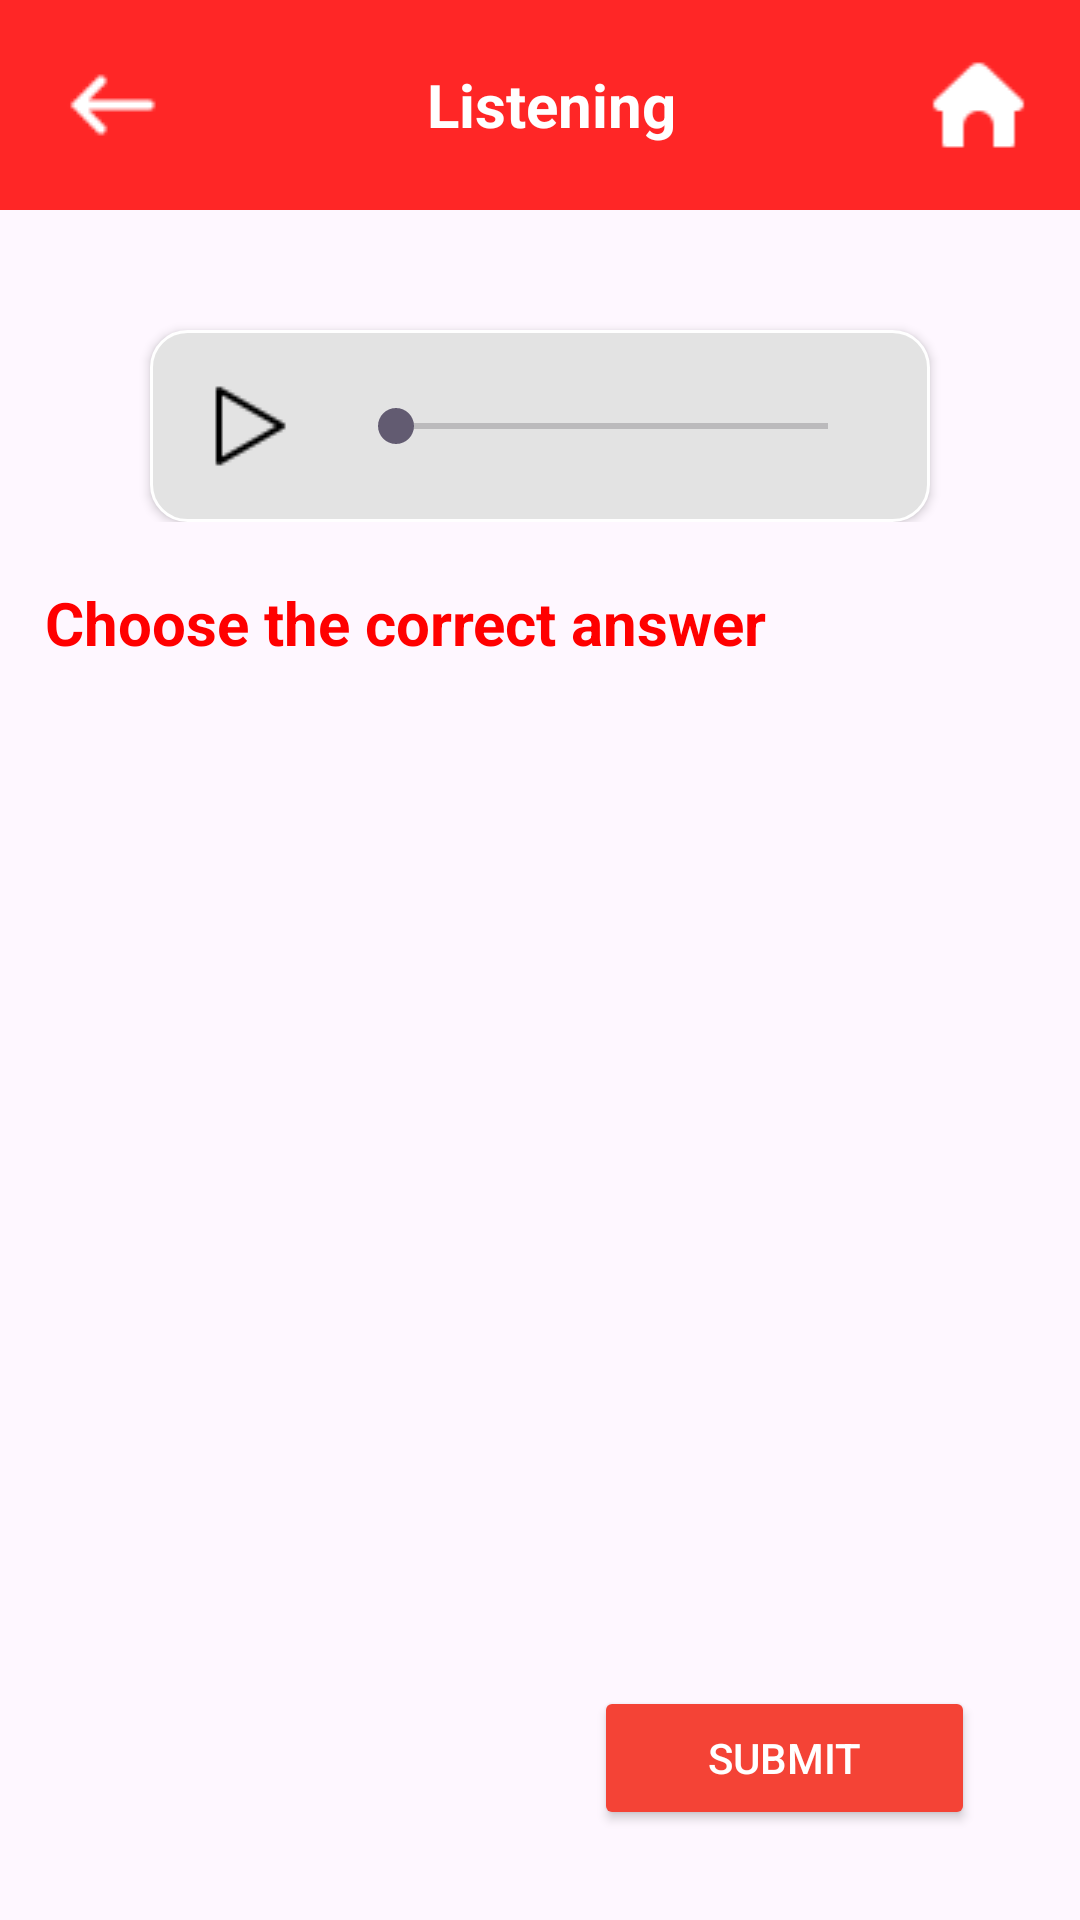

Named icons in this screenshot (1080×1920) and their bounding boxes, (x1=x1, y1=y1, x2=x2, y2=y2):
backward: (x1=70, y1=74, x2=156, y2=136)
home: (x1=932, y1=62, x2=1025, y2=148)
Play/Pause: (x1=215, y1=386, x2=286, y2=466)
